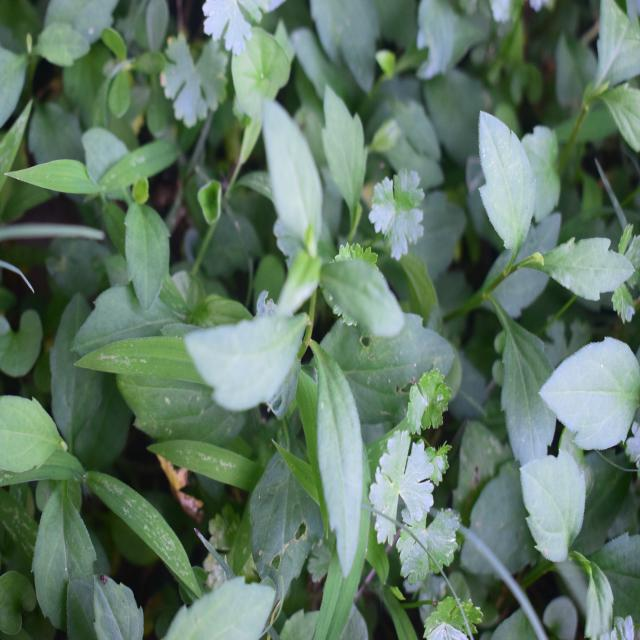Indian aster: (440, 108, 632, 500)
